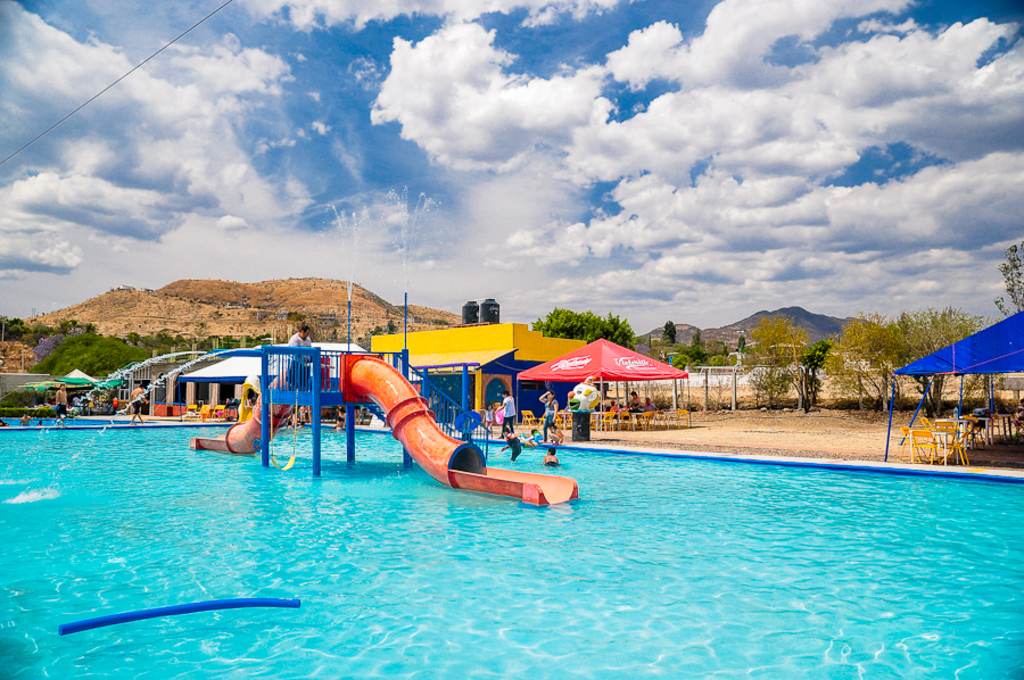Person: (537, 391, 560, 441), (497, 391, 516, 440), (127, 383, 148, 425), (55, 383, 68, 426), (480, 405, 497, 437), (623, 392, 642, 416), (605, 401, 619, 413)
